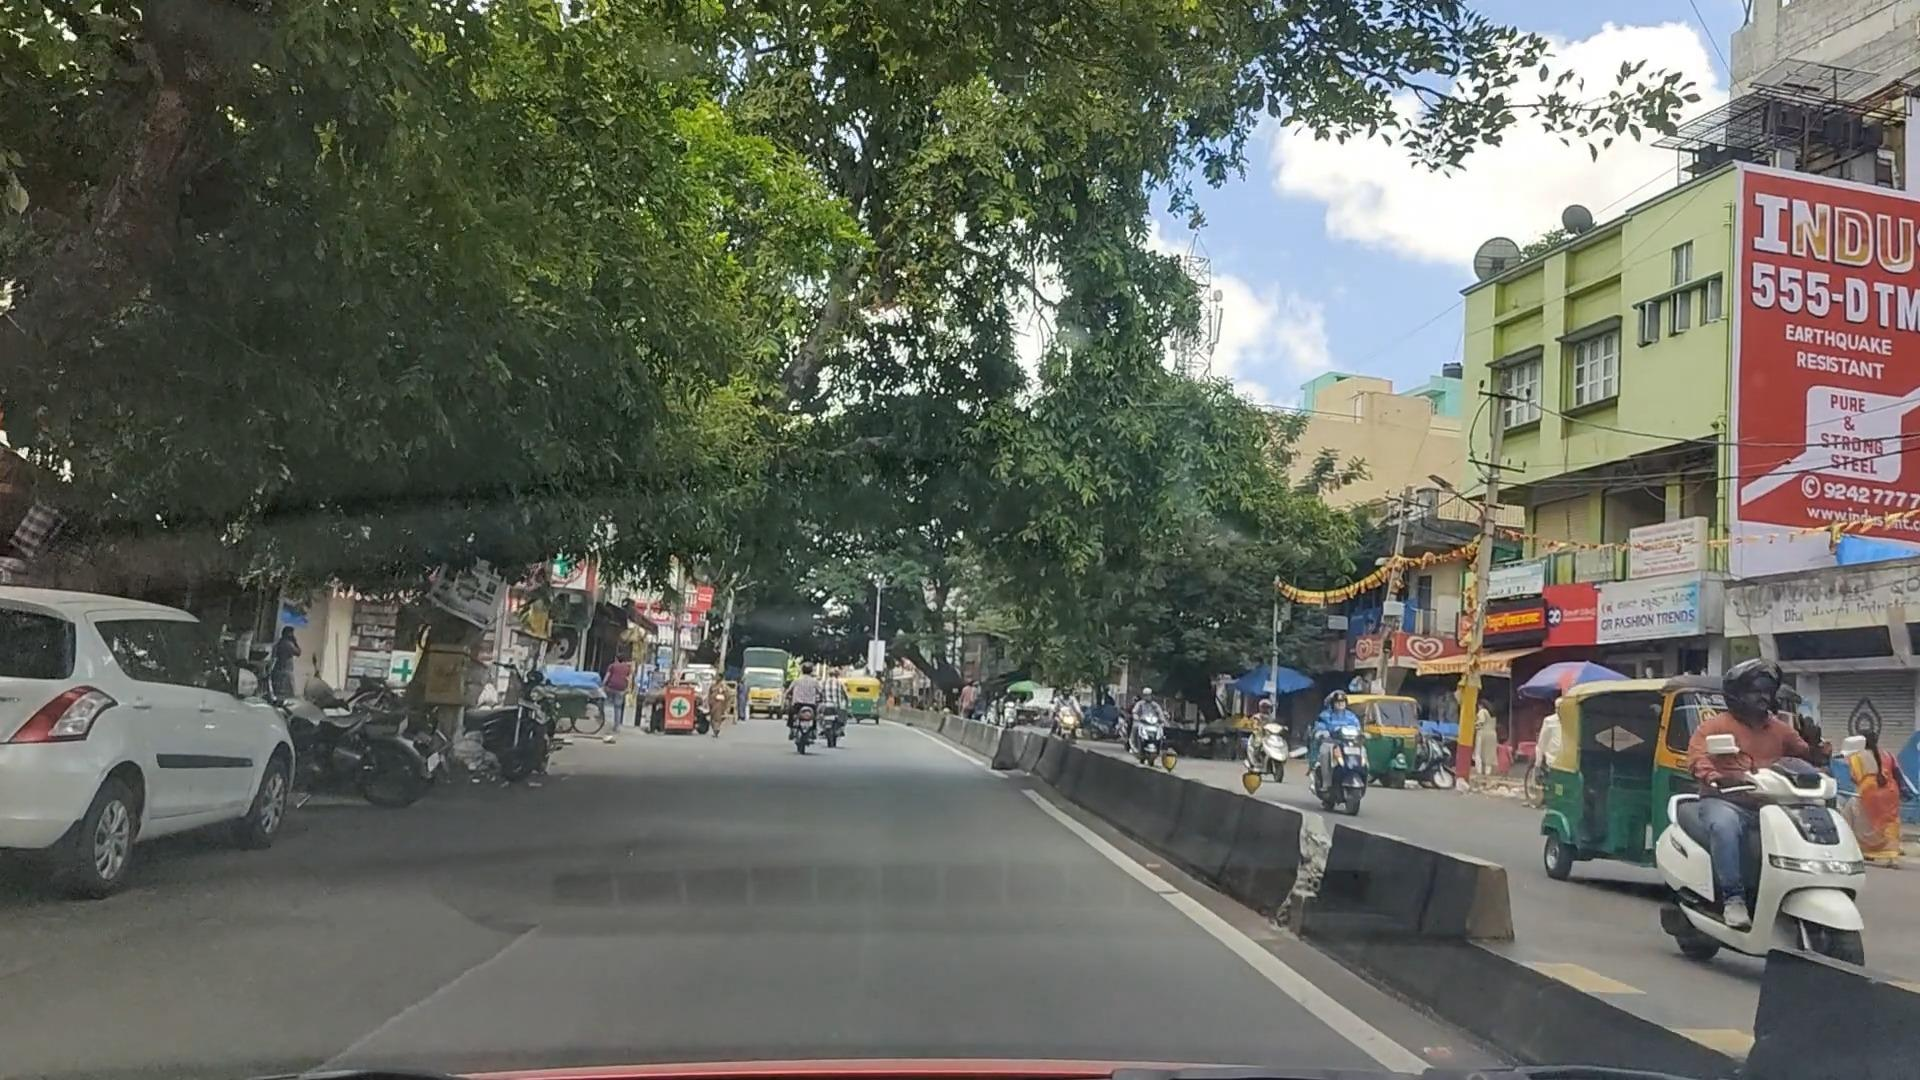LMV: (0, 580, 315, 878)
RoadDamages: (116, 898, 520, 1076)
